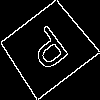P: (23, 23, 77, 80)
